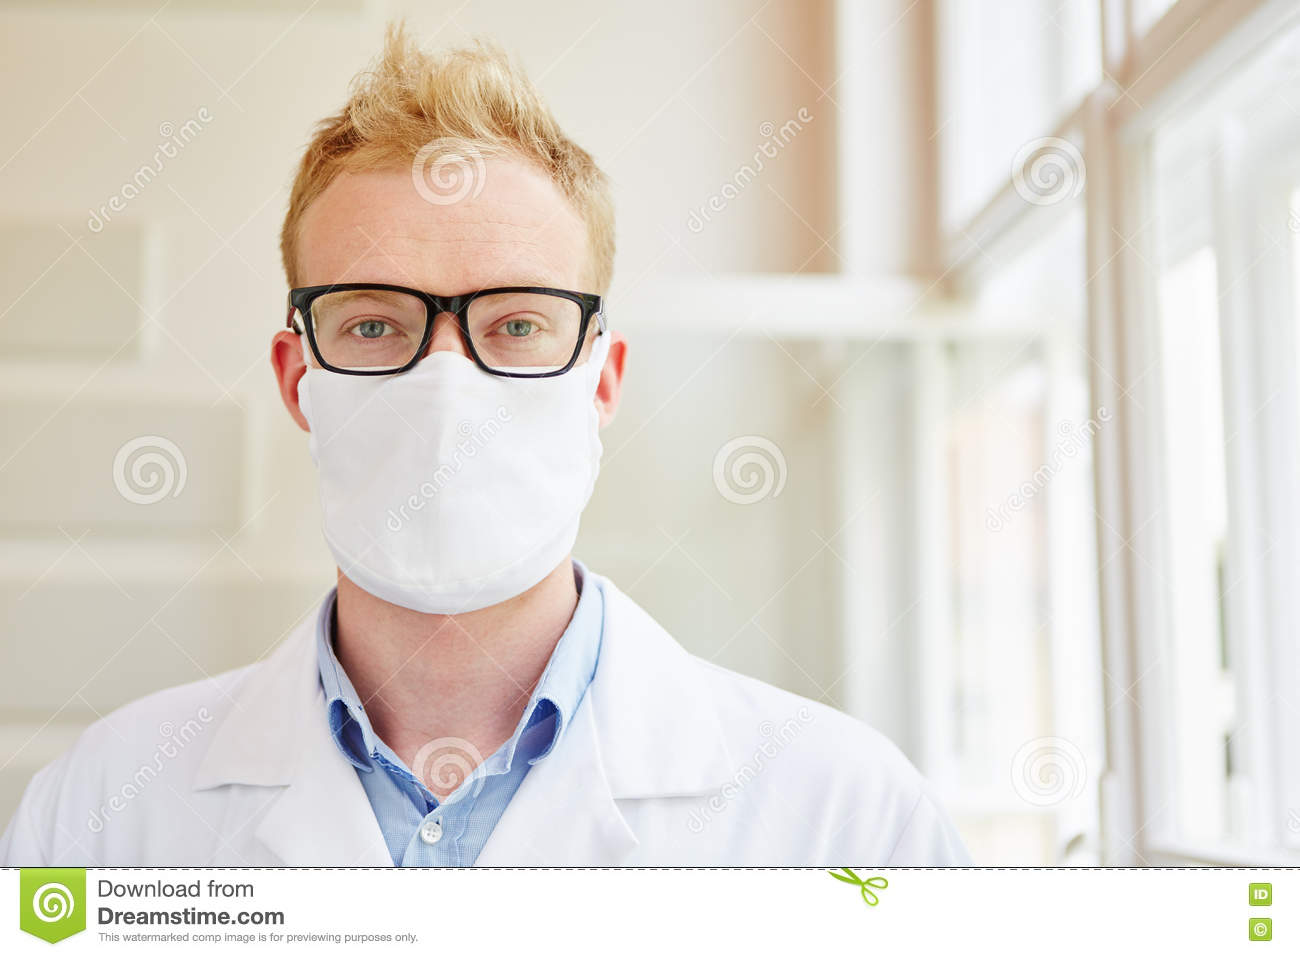mask: (294, 349, 606, 605)
